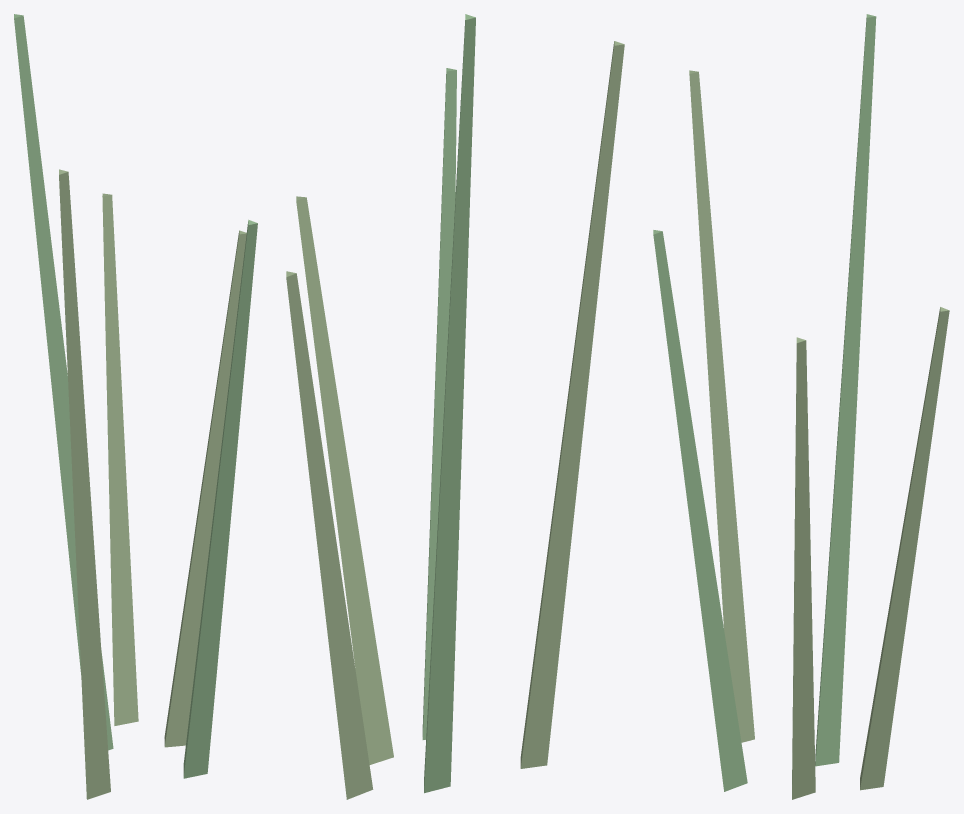
Rendered from reed_v00.glb.
3 renders of one model, left to right at view 1: azimuth 30°, elevation 25°; view 2: azimuth 150°, elevation 25°; view 3: azimuth 270°, elevation 25°, orthographic. The views are drawn at different scales.
Parts seen in each view (by area): view 1: lod0; view 2: lod0; view 3: lod0.
Boxes of the visible parts, x1,y1,x2,y2 form: lod0: (14, 14, 257, 799); lod0: (286, 14, 624, 799); lod0: (653, 14, 949, 799).
Size of what is drawn, in the model's own units: 0.3498 by 1 by 0.3733.
